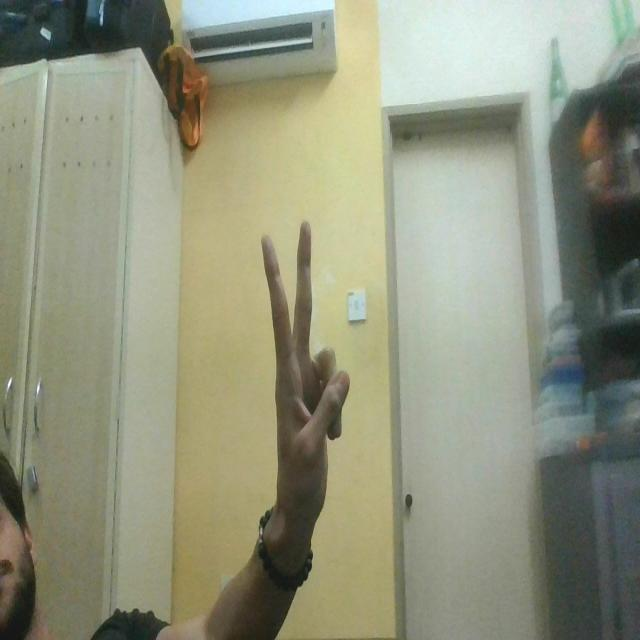peace: (236, 171, 382, 543)
